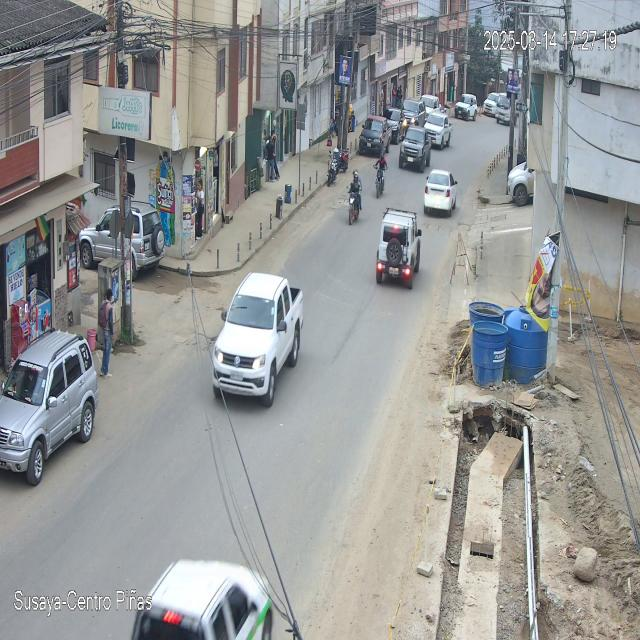CMT: (210, 274, 302, 408)
SED: (424, 169, 454, 215)
SUV: (376, 209, 422, 291)
